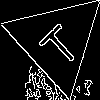T: (31, 16, 84, 71)
